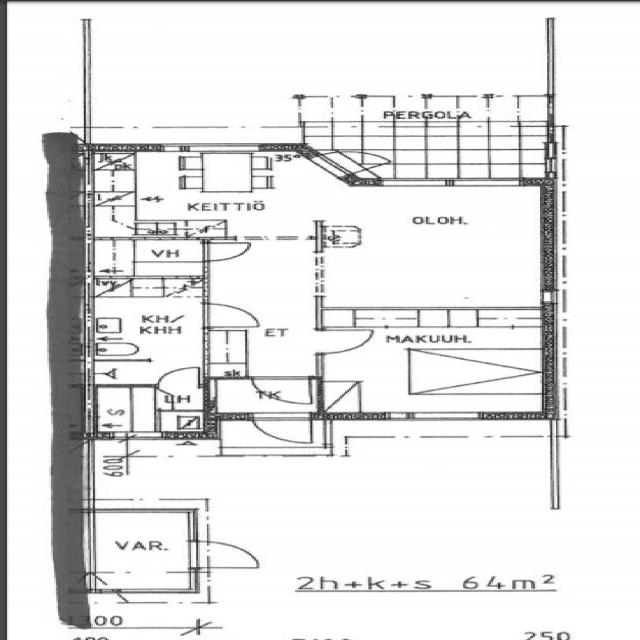door: (81, 288, 248, 374), (182, 537, 273, 572), (243, 411, 318, 447), (248, 374, 324, 408), (195, 300, 272, 330), (309, 325, 382, 356), (198, 238, 258, 263), (154, 365, 208, 389)
window: (349, 173, 532, 193), (371, 411, 521, 426), (76, 512, 102, 570), (162, 142, 275, 155), (61, 623, 94, 640)
zone: (312, 181, 551, 313), (323, 316, 558, 419), (78, 148, 328, 238), (80, 288, 210, 380), (80, 508, 194, 594), (78, 384, 203, 438), (74, 590, 206, 640), (80, 237, 206, 283)
